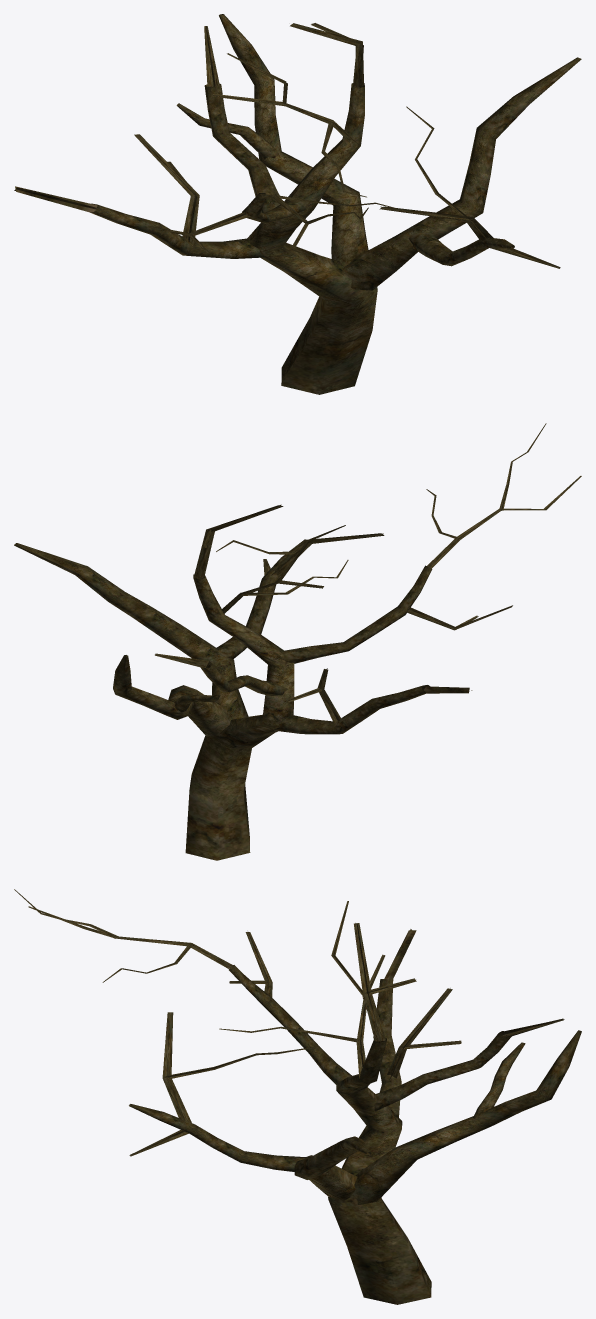
Rendered from CB_BURNT_TREE01.fbx.
3 views of the same model, one above another, from view 1: azimuth 30°, elevation 25°; view 2: azimuth 150°, elevation 25°; view 3: azimuth 270°, elevation 25° (orthographic). The views are drawn at different scales.
Parts seen in each view (by area): view 1: CB_BURNT_TREE01; view 2: CB_BURNT_TREE01; view 3: CB_BURNT_TREE01.
Part boxes in pixels (x1,y1,x2,y2): CB_BURNT_TREE01: (14, 14, 581, 394); CB_BURNT_TREE01: (14, 423, 581, 860); CB_BURNT_TREE01: (14, 889, 581, 1304).
Bounding box in the file's own units: 84112 × 56428 × 84215.
1 material, 1 textured.
